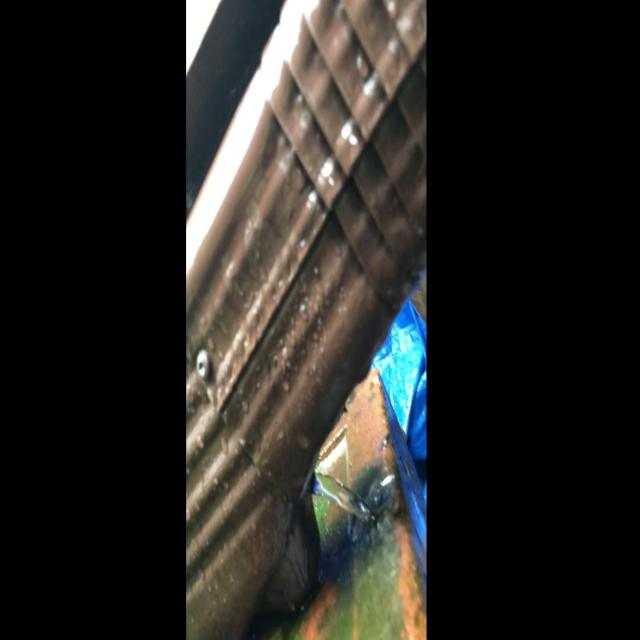leak: (312, 473, 371, 522)
